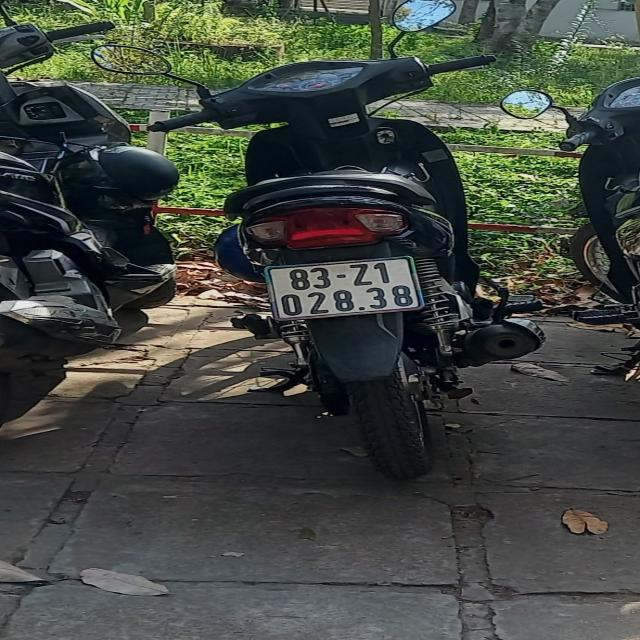0: (282, 294, 302, 316)
1: (373, 263, 391, 285)
2: (308, 292, 329, 313)
3: (366, 287, 388, 310), (309, 267, 331, 289)
8: (390, 285, 412, 307), (290, 270, 310, 292), (334, 290, 354, 312)
Z: (350, 264, 372, 286)
